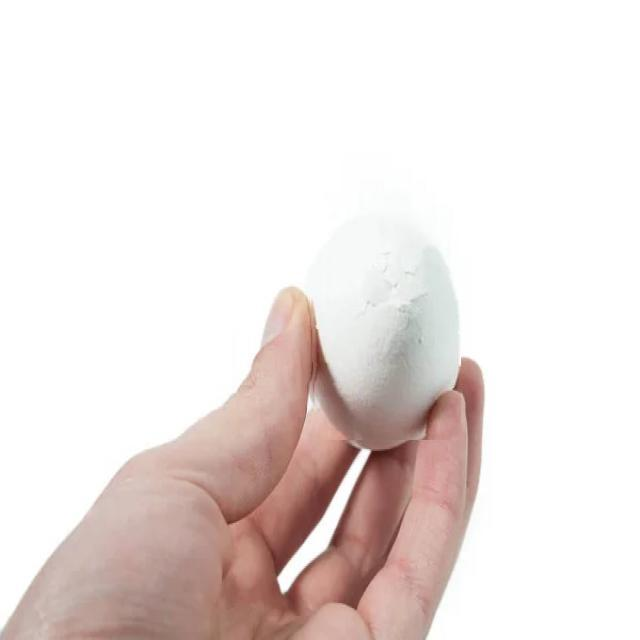biodegradable: (308, 210, 461, 440)
